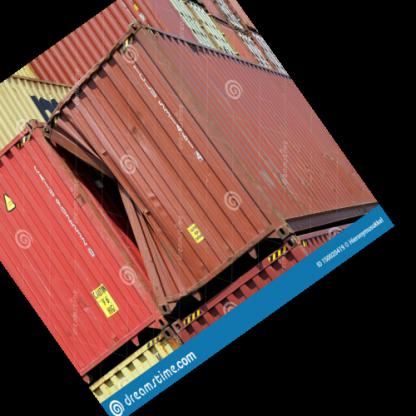Damage: (48, 145, 153, 261)
